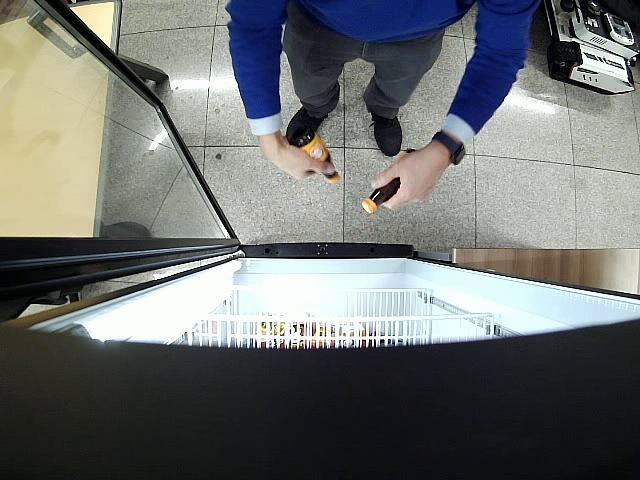17_vita500: (362, 147, 416, 216), (296, 132, 340, 184)
